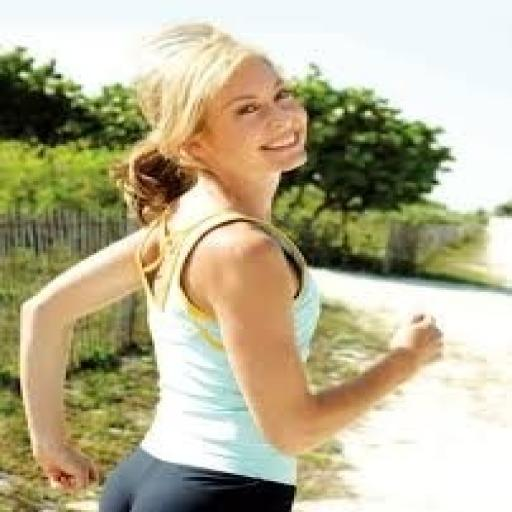running: (15, 18, 449, 510)
